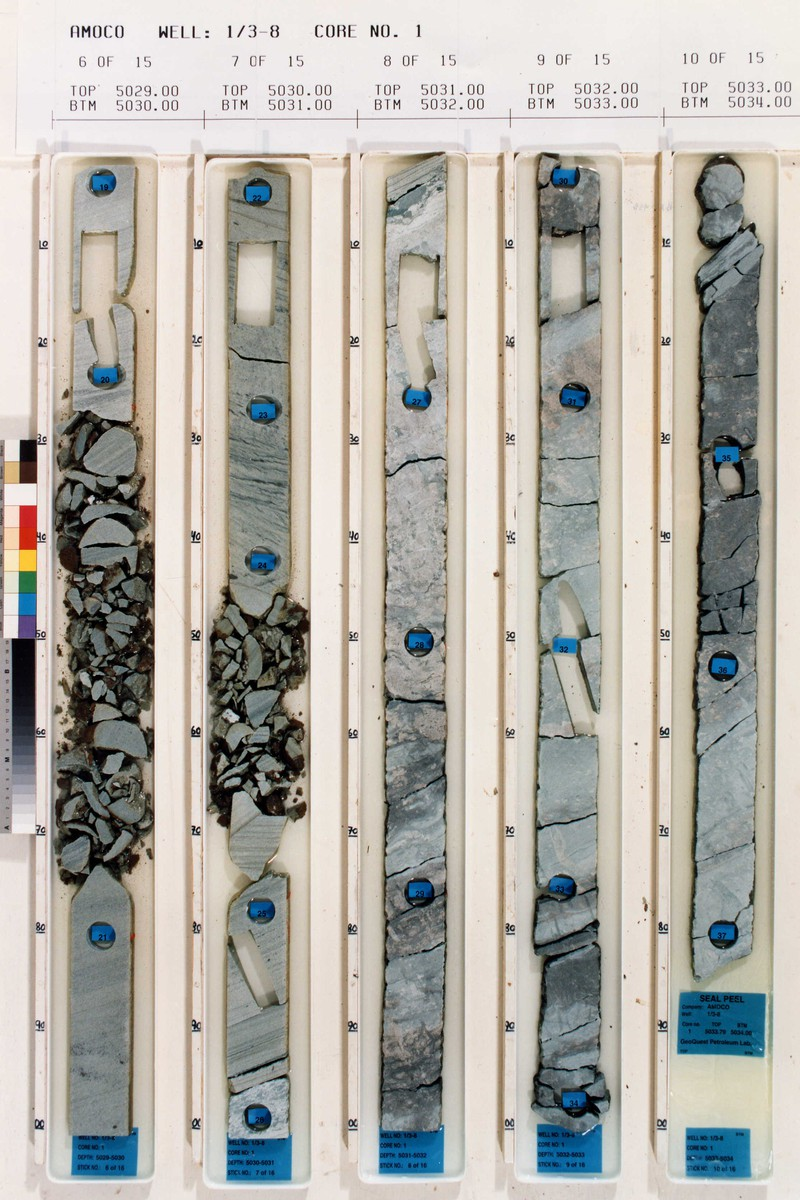core: (67, 161, 144, 1135), (534, 156, 609, 1131), (225, 171, 300, 1141), (381, 157, 445, 1131), (692, 159, 760, 979)
